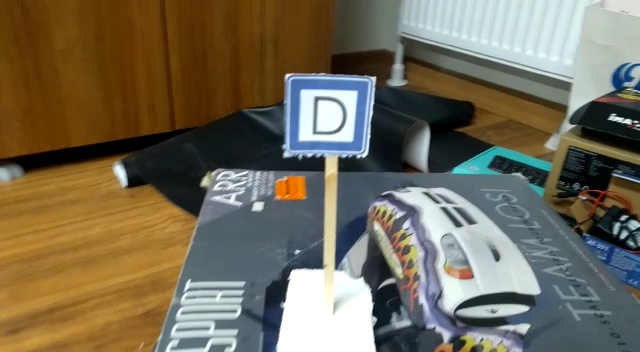durak: (279, 67, 385, 162)
